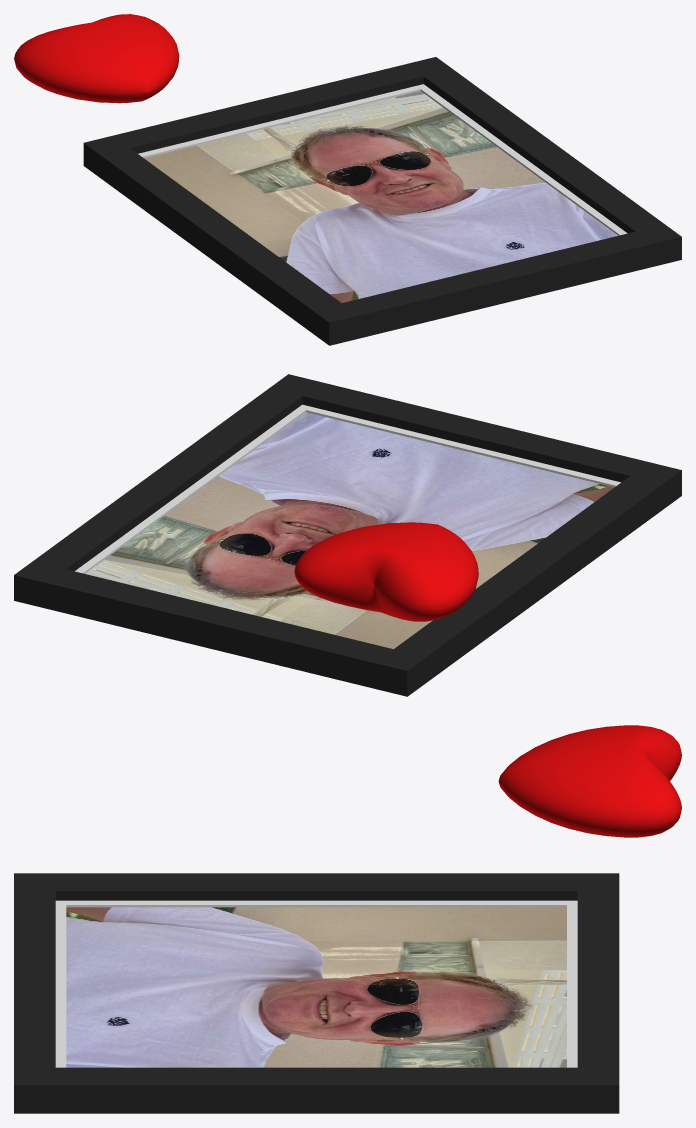
3 views of the same model, one above another, from view 1: azimuth 30°, elevation 25°; view 2: azimuth 150°, elevation 25°; view 3: azimuth 270°, elevation 25° (orthographic). The views are drawn at different scales.
Parts seen in each view (by area): view 1: PhotoPlane.002, BuitenFrame, Hart, BinnenFrame; view 2: PhotoPlane.002, BuitenFrame, Hart, BinnenFrame; view 3: PhotoPlane.002, BuitenFrame, Hart, BinnenFrame.
Part boxes in pixels (box(x1,y1,x2,y2)): PhotoPlane.002: box(144, 91, 617, 302); BuitenFrame: box(83, 57, 681, 345); Hart: box(14, 14, 179, 103); BinnenFrame: box(138, 84, 627, 235); PhotoPlane.002: box(85, 412, 613, 648); BuitenFrame: box(14, 374, 681, 696); Hart: box(294, 522, 478, 621); BinnenFrame: box(75, 404, 620, 573); PhotoPlane.002: box(66, 907, 566, 1067); BuitenFrame: box(14, 873, 619, 1113); Hart: box(498, 725, 681, 837); BinnenFrame: box(55, 900, 577, 1067).
Bounding box in the file's own units: 0.5563 × 0.1754 × 0.6401.
Materials: 4 (1 with a texture image).
